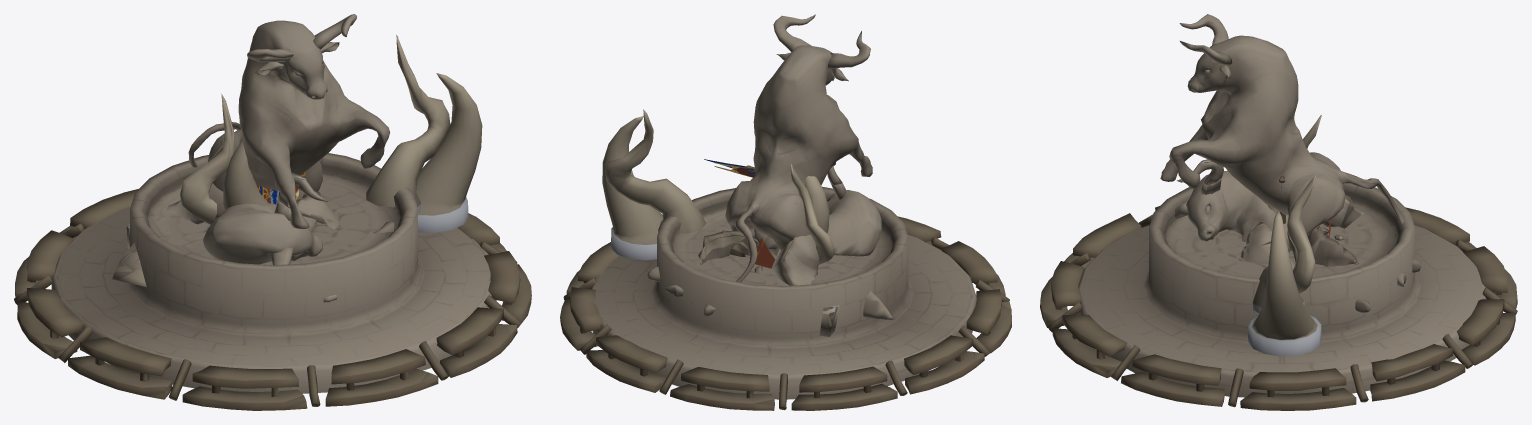
Rendered from Missing_assets_level1-food_flags_horns.gltf.
The picture shows the model from 3 angles, left to right: view 1: azimuth 30°, elevation 25°; view 2: azimuth 150°, elevation 25°; view 3: azimuth 270°, elevation 25°; orthographic projection. The views are drawn at different scales.
Visible parts, largest first — view 1: PR_BullStatue_main_stand, PR_BullStatue_main_stand_wood_deco, Bull_Pose_UP, Bull_Pose_Destroyed, PR_Horns_stylized_R, PR_Horns_realistic_R, PR_Horns_realistic_L, PR_Horns_stylized_L; view 2: PR_BullStatue_main_stand, PR_BullStatue_main_stand_wood_deco, Bull_Pose_UP, Bull_Pose_Destroyed, PR_Horns_stylized_R, PR_Horns_realistic_R, PR_Horns_realistic_L, PR_Horns_stylized_L; view 3: PR_BullStatue_main_stand, PR_BullStatue_main_stand_wood_deco, Bull_Pose_UP, Bull_Pose_Destroyed, PR_Horns_stylized_R, PR_Horns_realistic_R.
Part boxes in pixels (bbox=[...]): PR_BullStatue_main_stand: bbox=[51, 153, 496, 393]; PR_BullStatue_main_stand_wood_deco: bbox=[14, 189, 531, 410]; Bull_Pose_UP: bbox=[188, 14, 390, 228]; Bull_Pose_Destroyed: bbox=[112, 172, 394, 302]; PR_Horns_stylized_R: bbox=[416, 73, 482, 232]; PR_Horns_realistic_R: bbox=[366, 35, 450, 213]; PR_Horns_realistic_L: bbox=[180, 94, 233, 225]; PR_Horns_stylized_L: bbox=[223, 140, 267, 210]; PR_BullStatue_main_stand: bbox=[591, 186, 976, 399]; PR_BullStatue_main_stand_wood_deco: bbox=[560, 216, 1011, 410]; Bull_Pose_UP: bbox=[691, 14, 872, 303]; Bull_Pose_Destroyed: bbox=[647, 162, 894, 336]; PR_Horns_stylized_R: bbox=[602, 116, 663, 260]; PR_Horns_realistic_R: bbox=[605, 109, 706, 233]; PR_Horns_realistic_L: bbox=[790, 164, 834, 264]; PR_Horns_stylized_L: bbox=[773, 176, 829, 256]; PR_BullStatue_main_stand: bbox=[1077, 183, 1486, 397]; PR_BullStatue_main_stand_wood_deco: bbox=[1040, 206, 1517, 410]; Bull_Pose_UP: bbox=[1160, 14, 1410, 274]; Bull_Pose_Destroyed: bbox=[1174, 159, 1420, 312]; PR_Horns_stylized_R: bbox=[1248, 209, 1321, 356]; PR_Horns_realistic_R: bbox=[1253, 175, 1316, 313].
Bounding box in the file's own units: 9.59 × 8.11 × 9.59.
Materials: 4 (4 with a texture image).
